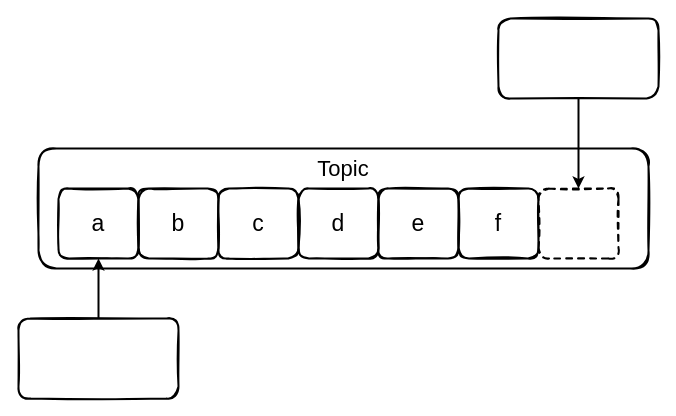
The diagram is 676 pixels wide and 416 high, and some of its shapes have lost their labels. The shapes that lost their labels are listed below. From the top down, each one's centre as x and y in pixels, then its label:
(x=578, y=58): Producer
(x=98, y=358): Consumer
